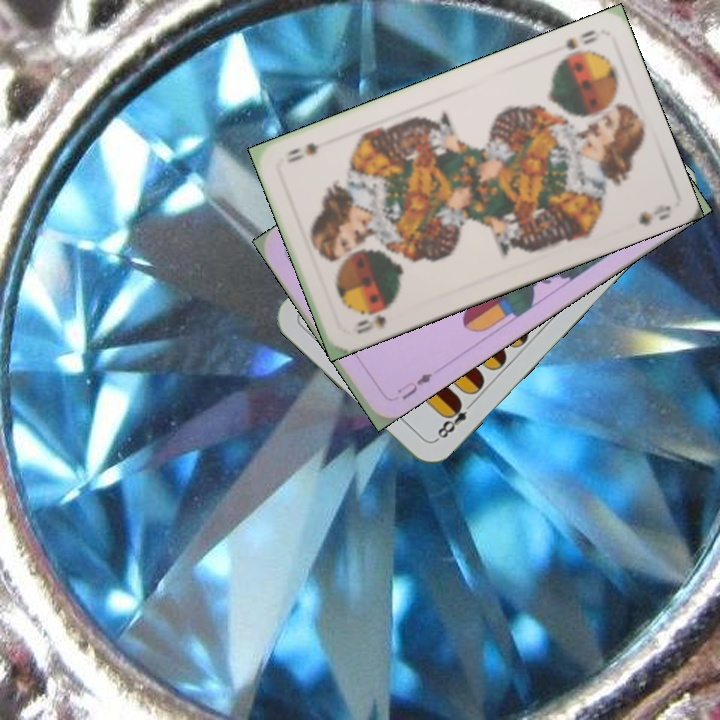E8: (431, 396, 477, 444)
EU: (393, 369, 435, 403)
SO: (561, 26, 604, 52), (353, 310, 389, 337)
